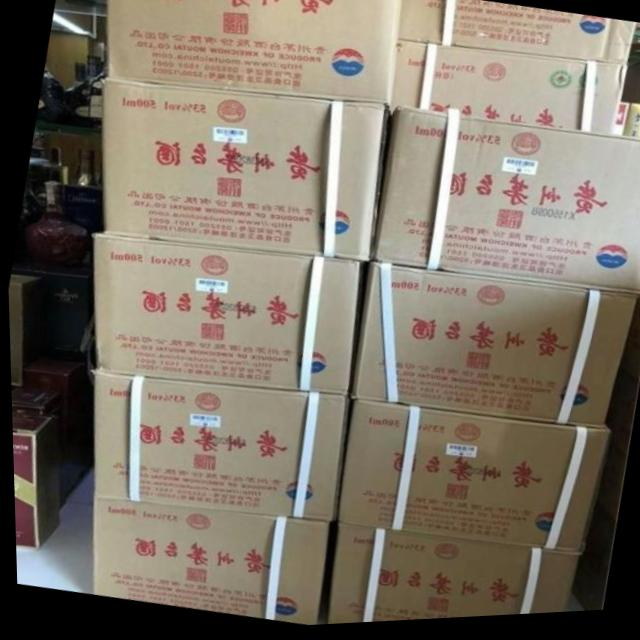box: (102, 79, 390, 264), (369, 110, 640, 302), (348, 265, 637, 434), (91, 234, 358, 399), (334, 404, 606, 558), (91, 372, 346, 525), (108, 0, 402, 108), (89, 498, 326, 628), (323, 525, 577, 627), (388, 45, 628, 141), (398, 0, 635, 69)
